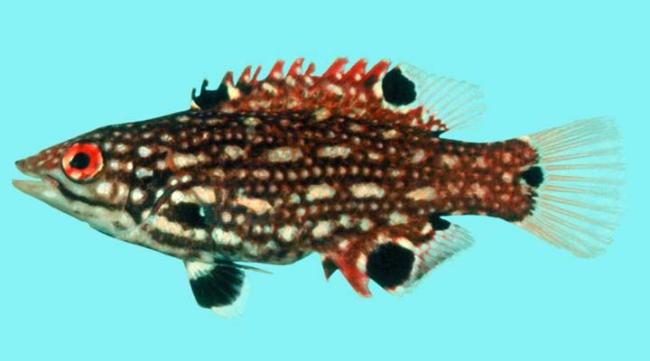fish: (14, 59, 627, 315)
